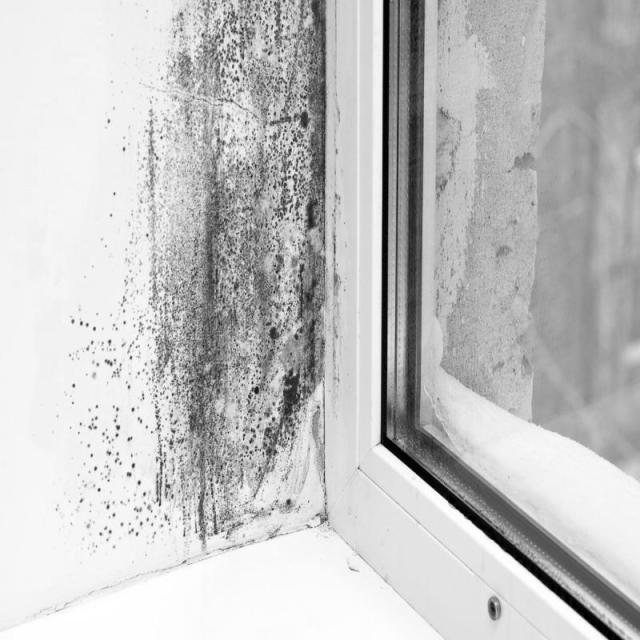stain marks: (56, 0, 364, 630)
